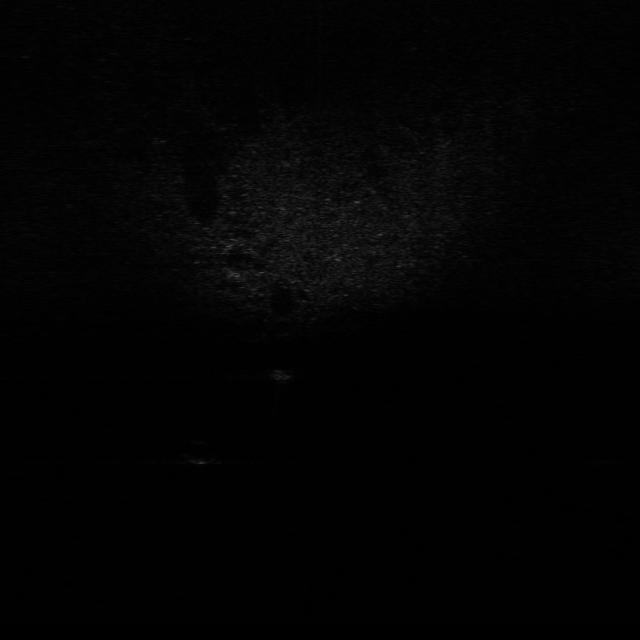ball: (179, 440, 222, 466)
cube: (266, 363, 296, 386)
